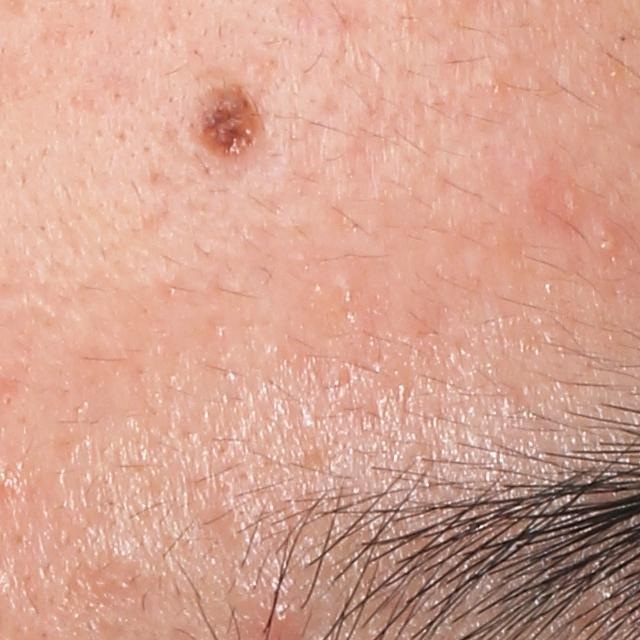comedo: (593, 221, 623, 257)
nevus: (184, 76, 267, 171)
